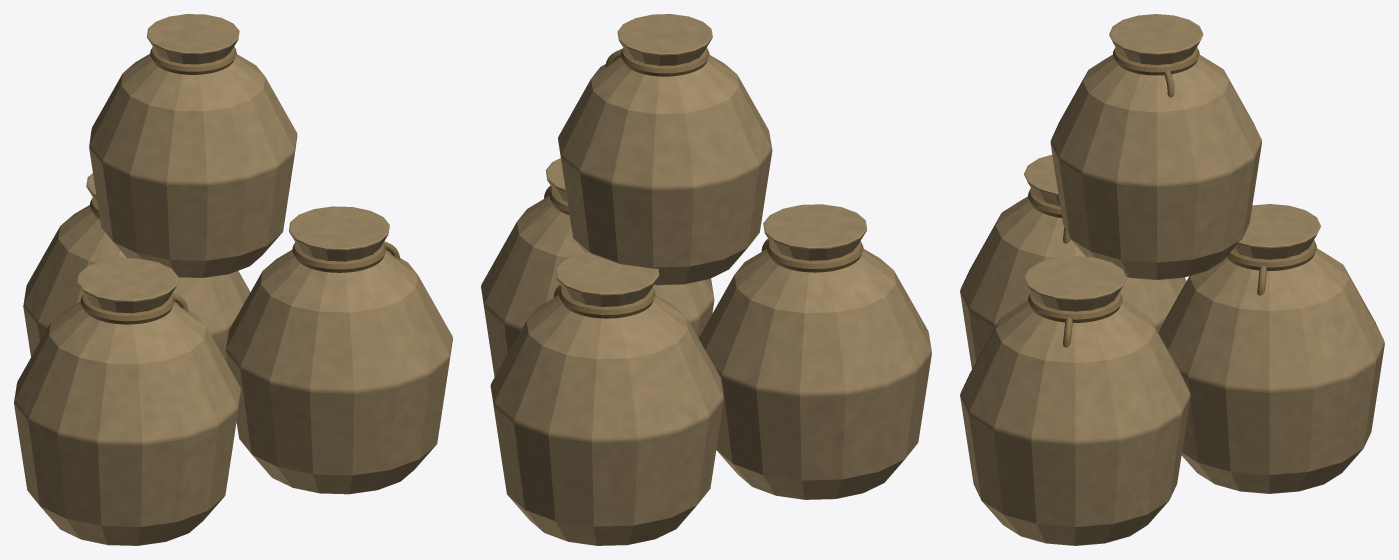
Rendered from Sack_Stack.fbx.
3 views of the same model, side by side, from view 1: azimuth 30°, elevation 25°; view 2: azimuth 150°, elevation 25°; view 3: azimuth 270°, elevation 25° (orthographic). The views are drawn at different scales.
Visible parts, largest first — view 1: Sack_Stack.001; view 2: Sack_Stack.001; view 3: Sack_Stack.001.
Part boxes in pixels (left/top/right/bottom): Sack_Stack.001: left=14, top=14, right=452, bottom=545; Sack_Stack.001: left=481, top=14, right=931, bottom=545; Sack_Stack.001: left=960, top=14, right=1384, bottom=545.
Size of the model in its own units: 1.47 by 1.46 by 1.31.
